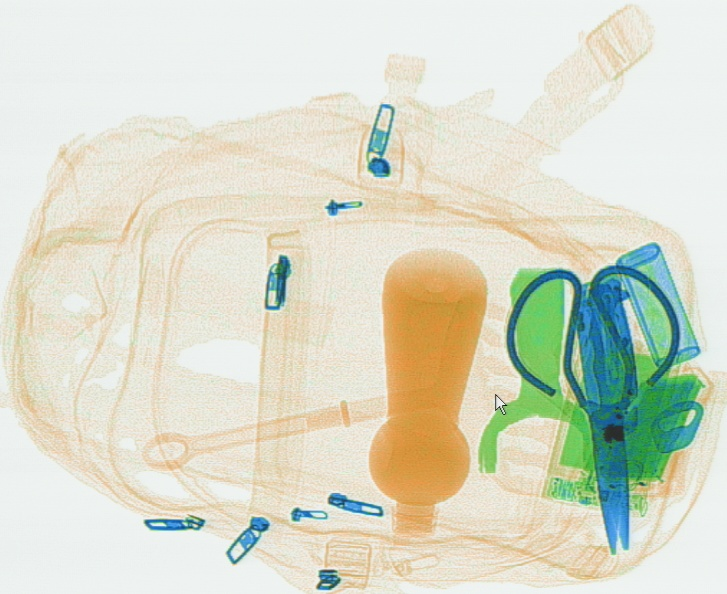knife: (565, 270, 641, 413)
scissors: (511, 266, 680, 554)
slingshot: (470, 261, 623, 479)
